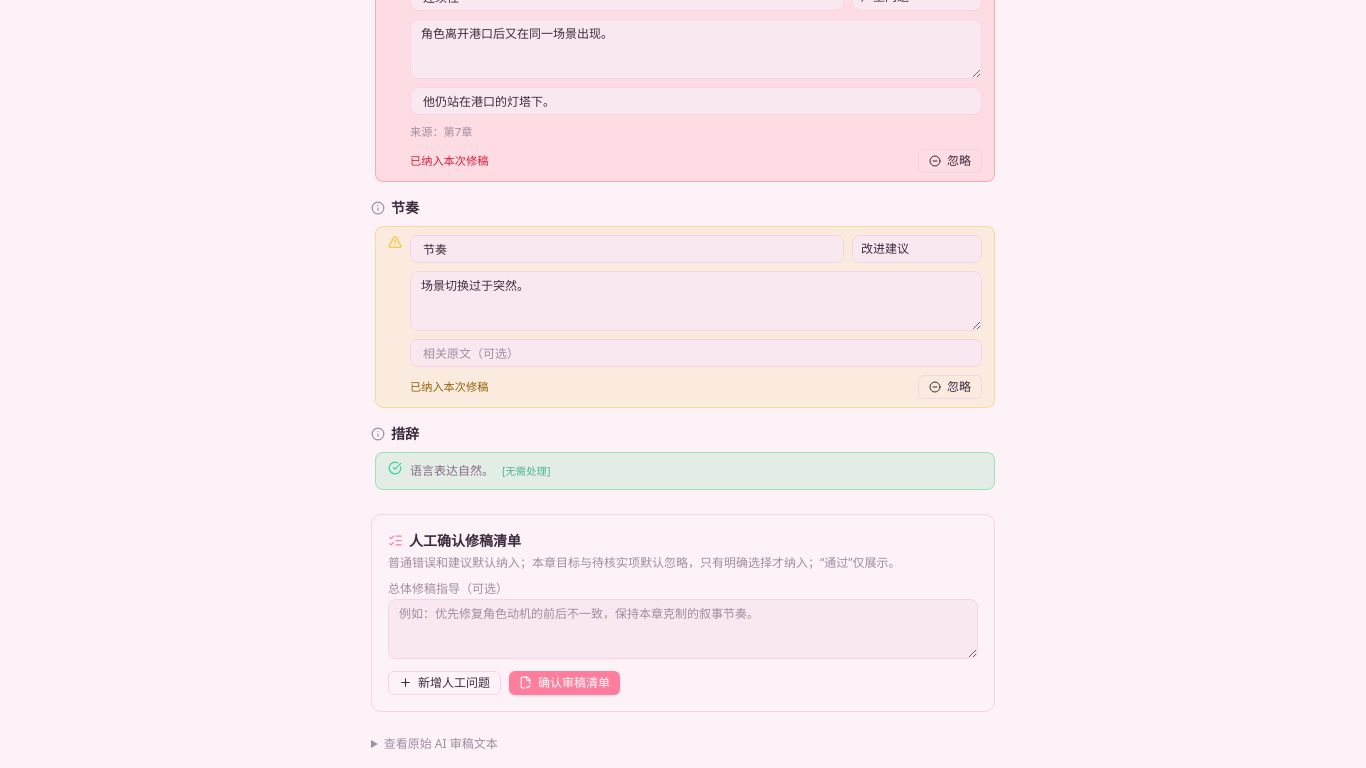
Scenario: ReviewReport human-confirmed revision flow › rejects starting review refinement when the draft changes after confirmation
Click the button "确认审稿清单".
click(564, 683)  # box [509,671,620,695]
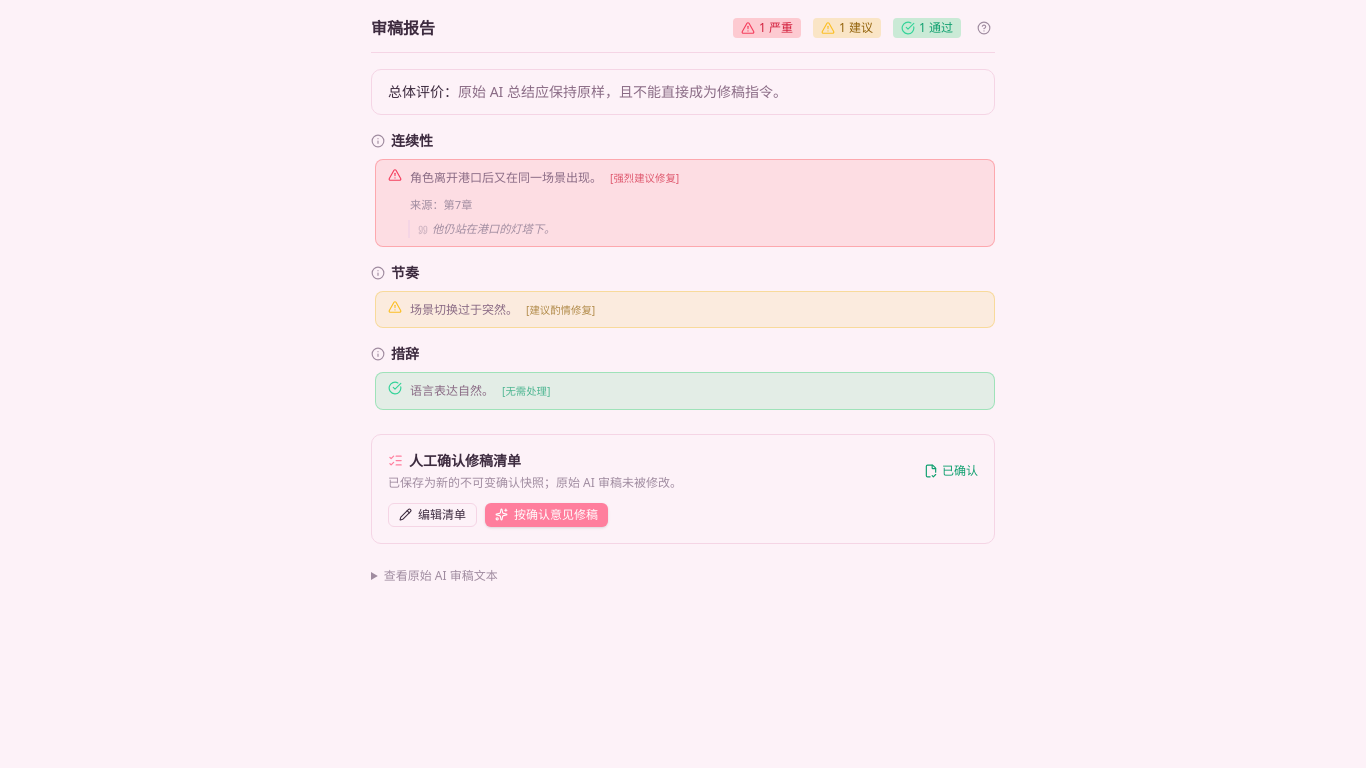
Click the button "按确认意见修稿".
click(546, 515)  # box [485,503,608,527]
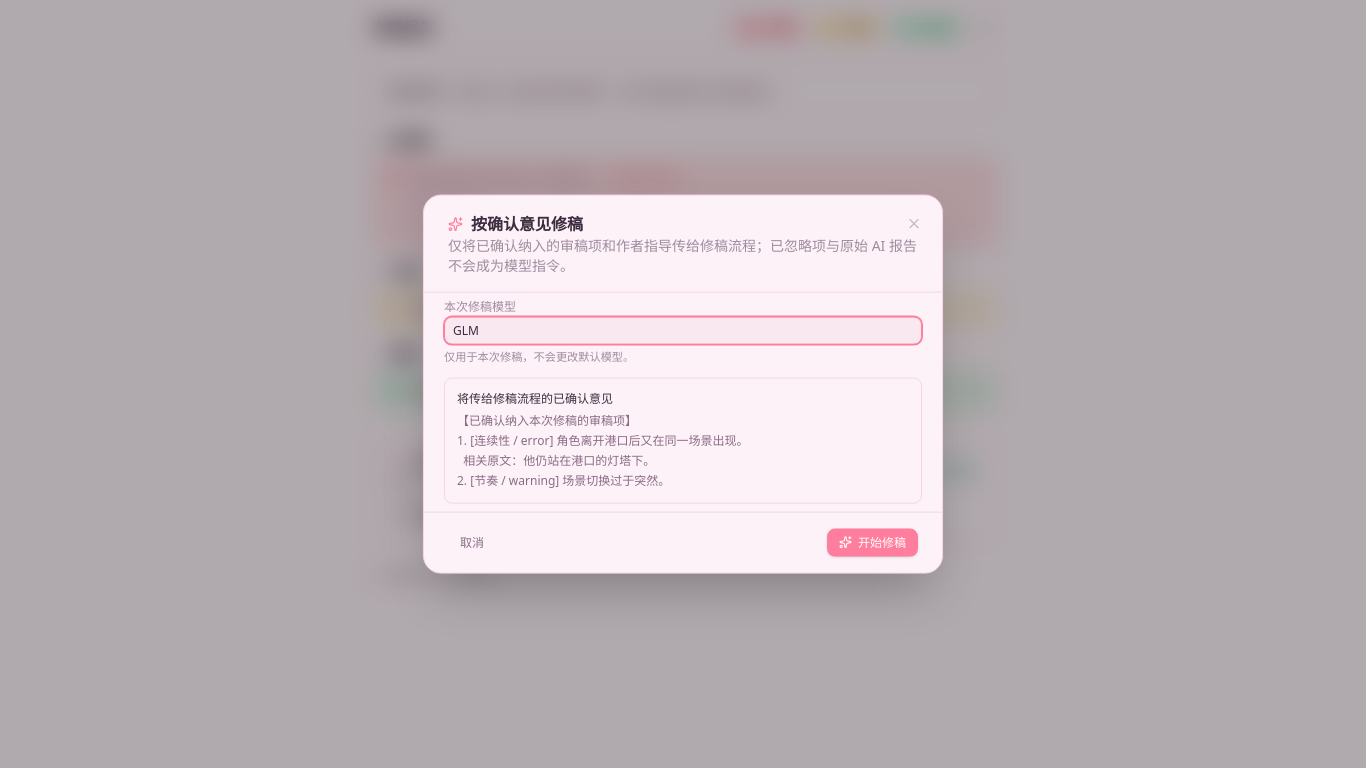
Click the button "开始修稿".
click(872, 542)  # box [827,528,918,556]
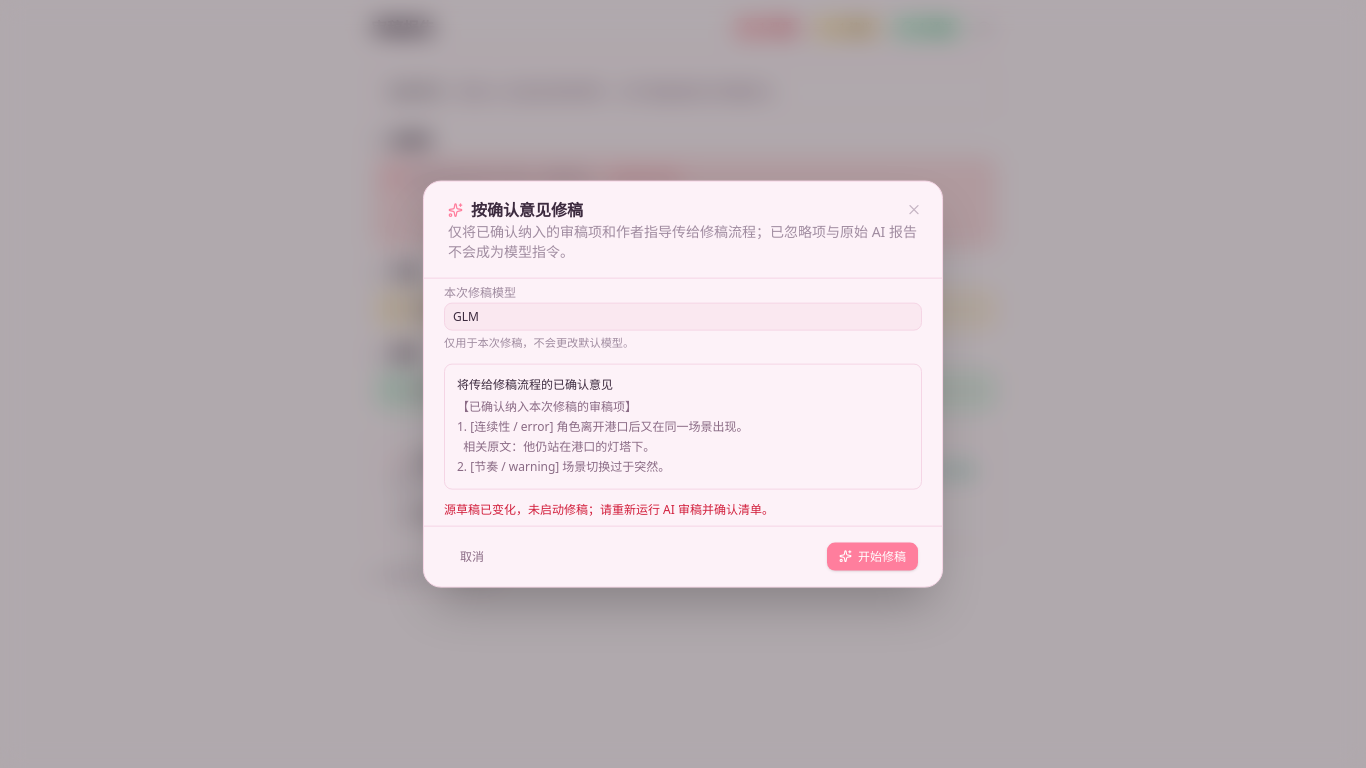
Expected: the message shows "源草稿已变化", [444,500,774,517]
